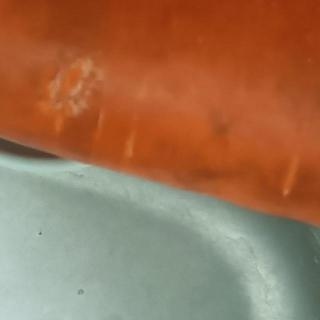carrot: (0, 0, 320, 244)
